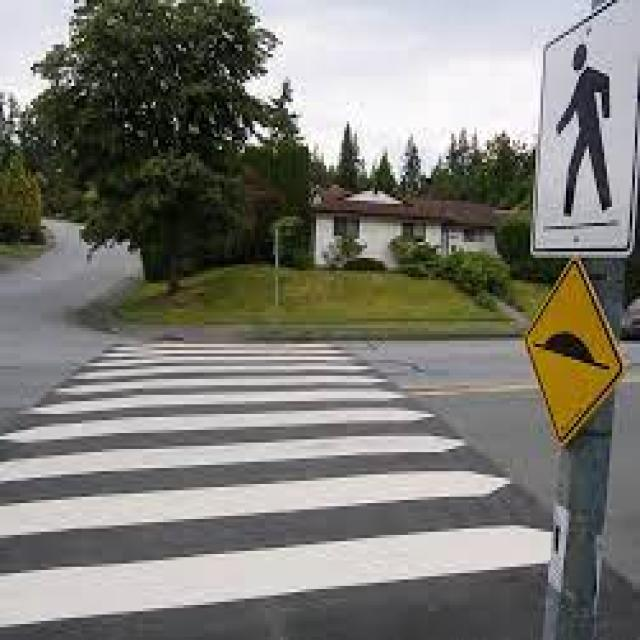Crosswalk: (0, 331, 552, 636)
